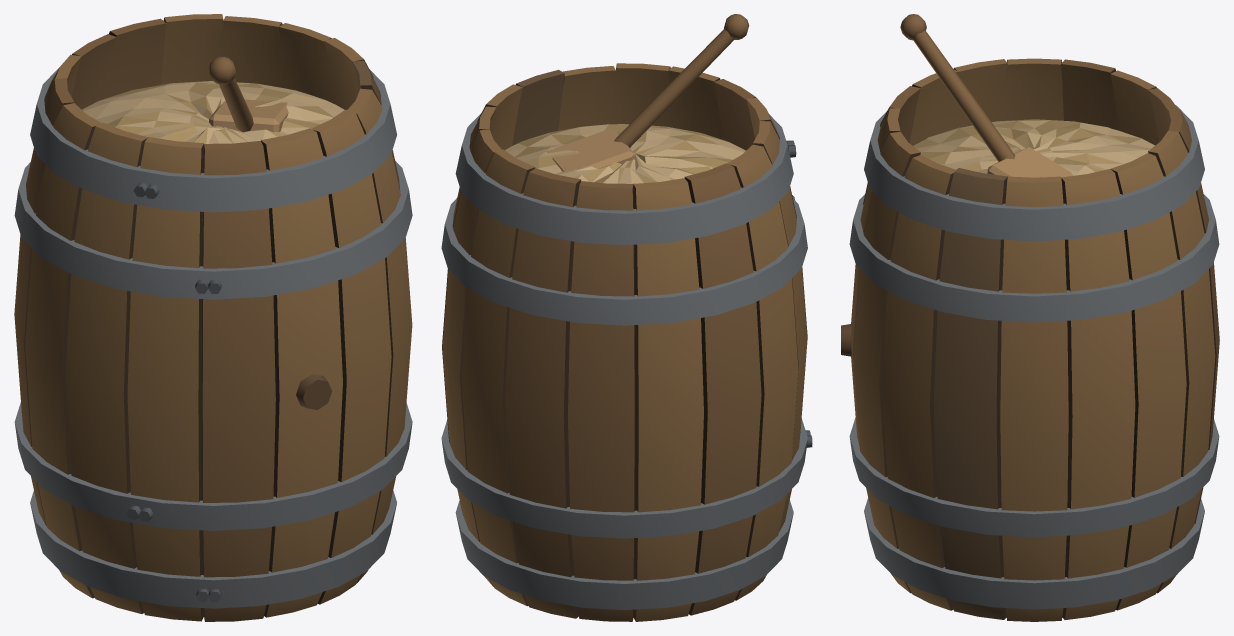
File: SM_LPD_Crate_BarrelOpen_01.fbx
3 views of the same model, side by side, from view 1: azimuth 30°, elevation 25°; view 2: azimuth 150°, elevation 25°; view 3: azimuth 270°, elevation 25° (orthographic). The views are drawn at different scales.
Parts seen in each view (by area): view 1: SM_LPD_Crate_BarrelOpen_01; view 2: SM_LPD_Crate_BarrelOpen_01; view 3: SM_LPD_Crate_BarrelOpen_01.
Boxes of the visible parts, <box> form: SM_LPD_Crate_BarrelOpen_01: <box>14,14,412,621</box>; SM_LPD_Crate_BarrelOpen_01: <box>441,14,812,621</box>; SM_LPD_Crate_BarrelOpen_01: <box>841,14,1219,621</box>.
Bounding box in the file's own units: 0.6148 × 0.947 × 0.6268.
